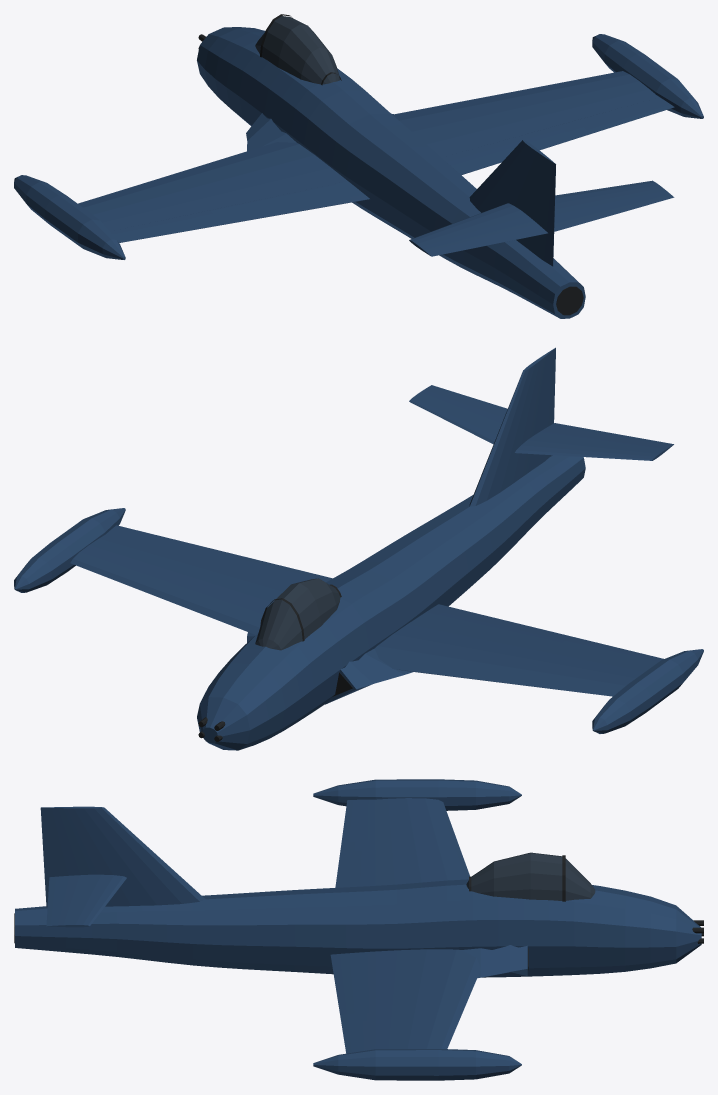
The picture shows the model from 3 angles, top to bottom: view 1: azimuth 30°, elevation 25°; view 2: azimuth 150°, elevation 25°; view 3: azimuth 270°, elevation 25°; orthographic projection. The views are drawn at different scales.
Parts seen in each view (by area): view 1: Fuselage, Wing L, Wing R, Cockpit Glass, Vertical Fin, Flap L, Stabilizer L, Rudder, Flap R, Stabilizer R, Elevator R, Elevator L (+4 smaller); view 2: Fuselage, Wing L, Wing R, Vertical Fin, Cockpit Glass, Stabilizer L, Stabilizer R, Flap L, Rudder, Intake Cheeks L, Flap R, Elevator L (+3 smaller); view 3: Fuselage, Wing R, Wing L, Vertical Fin, Cockpit Glass, Rudder, Stabilizer R, Flap R, Intake Cheeks, Flap L, Aileron L, Elevator R (+1 smaller).
Part boxes in pixels (box(x1,y1,x2,y2)): Fuselage: box(197, 27, 585, 318); Wing L: box(14, 142, 369, 259); Wing R: box(392, 34, 703, 157); Cockpit Glass: box(255, 16, 340, 84); Vertical Fin: box(469, 140, 544, 241); Flap L: box(210, 184, 353, 224); Stabilizer L: box(409, 203, 533, 251); Rudder: box(518, 155, 555, 266); Flap R: box(442, 125, 573, 175); Stabilizer R: box(554, 180, 666, 216); Elevator R: box(554, 191, 674, 231); Elevator L: box(424, 221, 547, 256); Fuselage: box(197, 455, 585, 750); Wing L: box(374, 604, 703, 733); Wing R: box(14, 508, 295, 634); Vertical Fin: box(469, 356, 545, 506); Cockpit Glass: box(255, 578, 340, 650); Stabilizer L: box(515, 431, 666, 460); Stabilizer R: box(409, 390, 503, 444); Flap L: box(434, 607, 572, 645); Rudder: box(525, 347, 555, 474); Intake Cheeks L: box(325, 648, 412, 704); Flap R: box(210, 552, 332, 582); Elevator L: box(541, 423, 673, 450); Fuselage: box(15, 879, 701, 977); Wing R: box(313, 949, 521, 1080); Wing L: box(313, 779, 521, 886); Vertical Fin: box(63, 806, 205, 906); Cockpit Glass: box(466, 852, 595, 900); Rudder: box(40, 807, 105, 907); Stabilizer R: box(61, 874, 126, 927); Flap R: box(331, 957, 369, 1014); Intake Cheeks: box(462, 945, 527, 978); Flap L: box(335, 850, 369, 887); Aileron L: box(341, 799, 369, 843); Elevator R: box(46, 875, 75, 926).
Size of the model in its own units: 11.53 by 3.14 by 11.9.
